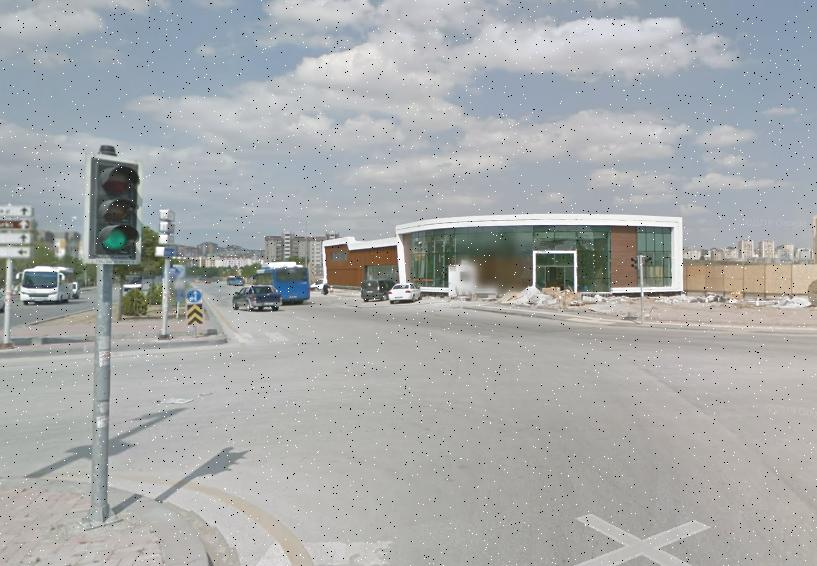greenlight: (92, 157, 139, 254)
